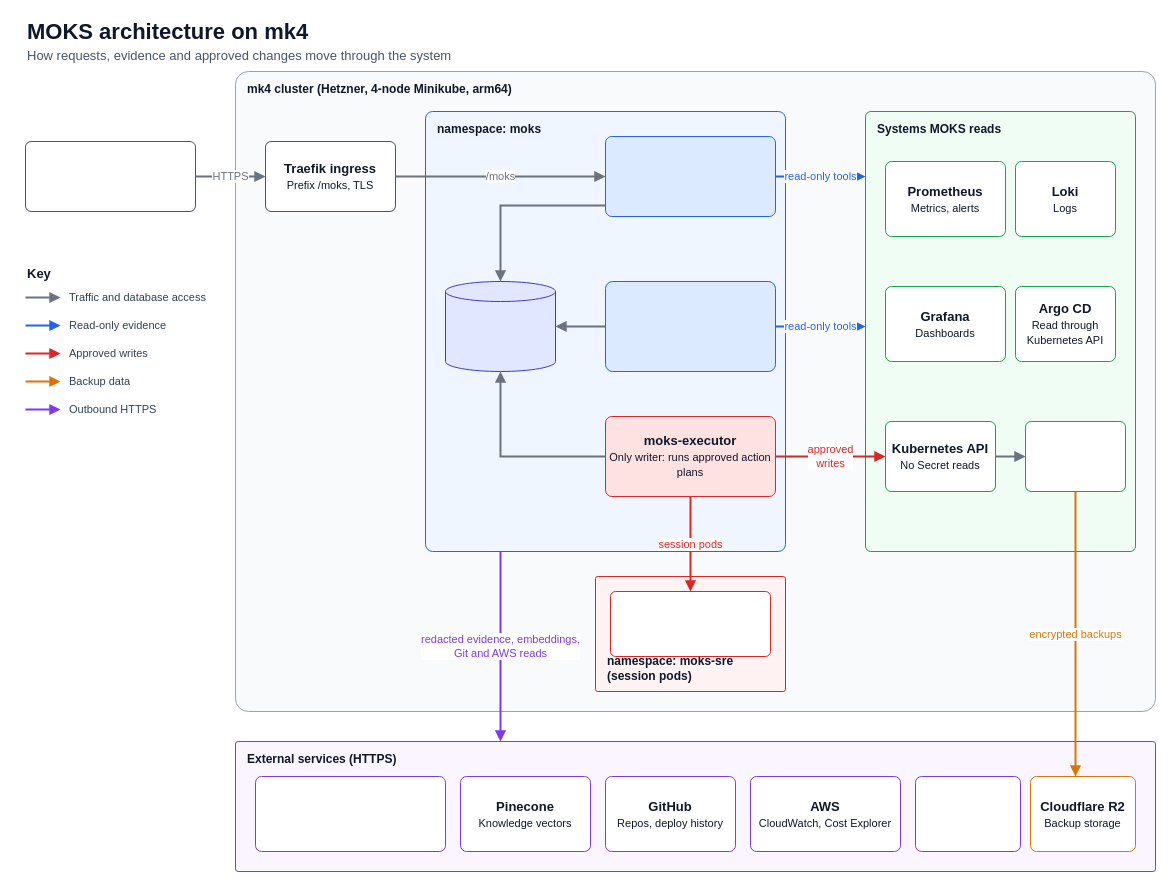
This 1173x889 diagram has some shape labels left out. The centre of each missing label's shape, as x and y in pixels:
Amazon ECR moks:latest image: (x=967, y=814)
Diagnostic pods Disposable, no API token: (x=690, y=623)
Engineer Browser, React SPA: (x=110, y=176)
LLM providers OpenAI, Anthropic, Gemini, Bedrock, Ollama: (x=350, y=814)
moks-api ×2 FastAPI: SPA, REST, SSE, auth, approvals: (x=690, y=176)
moks-worker Investigations, detection, alert polling, knowledge sync: (x=690, y=326)
PostgreSQL App data, audit log, job queue: (x=500, y=326)
Velero Cluster backups: (x=1075, y=456)
